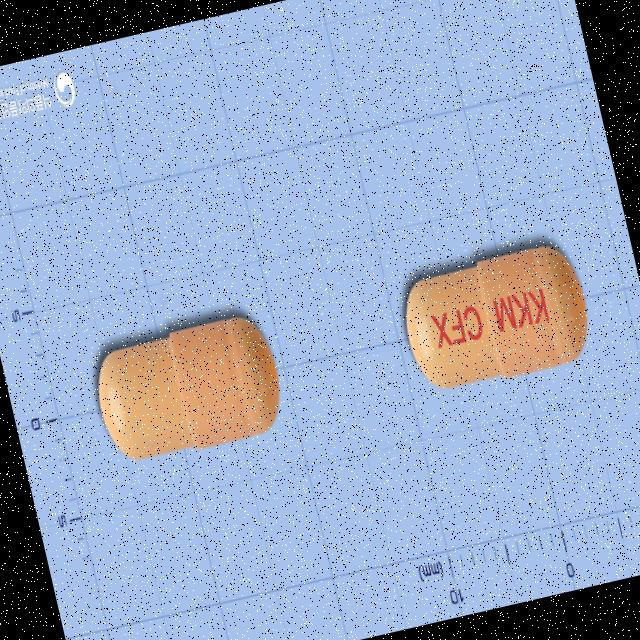Cefick Cap: (80, 300, 292, 476), (388, 229, 600, 404)
